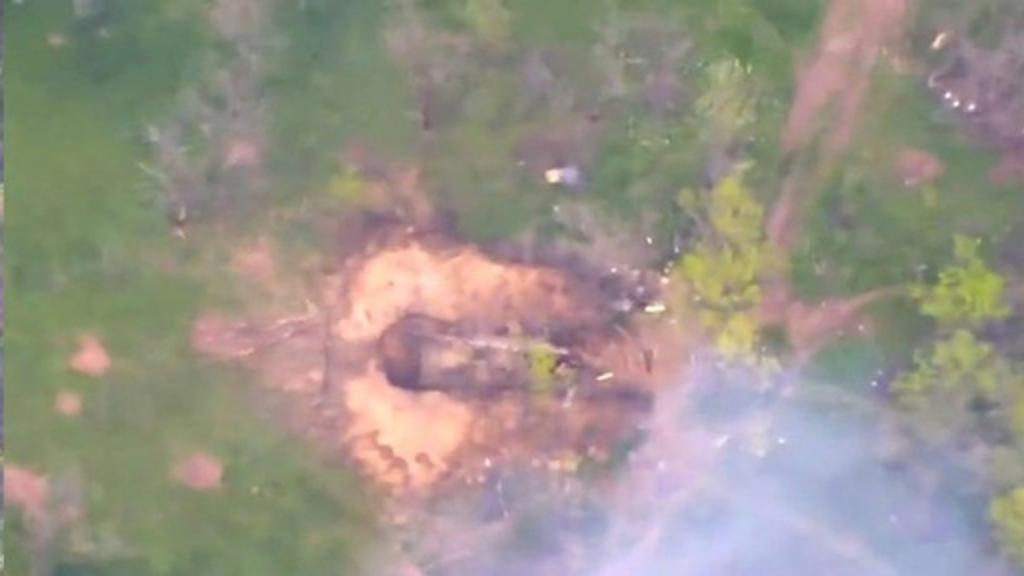ART: (404, 310, 590, 400)
